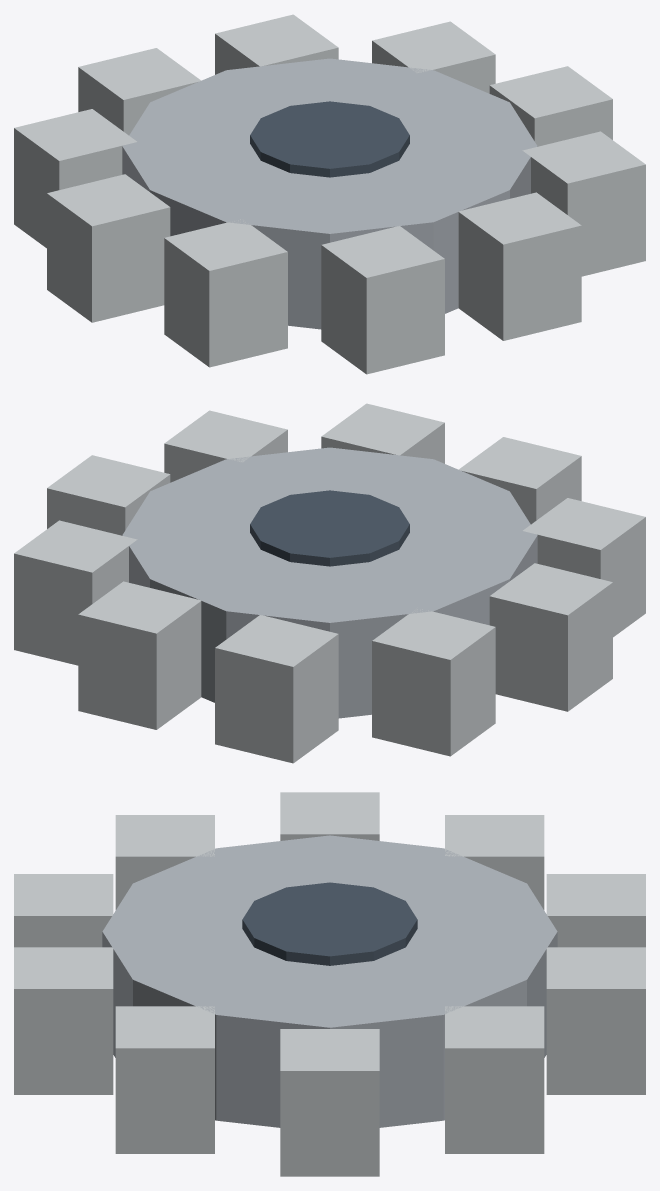
File: objeto_engranaje.glb
3 renders of one model, top to bottom at view 1: azimuth 30°, elevation 25°; view 2: azimuth 150°, elevation 25°; view 3: azimuth 270°, elevation 25°, orthographic. The views are drawn at different scales.
Parts seen in each view (by area): view 1: objeto_engranaje; view 2: objeto_engranaje; view 3: objeto_engranaje.
Boxes of the visible parts, bbox=[...] form: objeto_engranaje: bbox=[14, 14, 645, 374]; objeto_engranaje: bbox=[14, 403, 645, 763]; objeto_engranaje: bbox=[14, 792, 645, 1176].
Size of the model in its own units: 1.13 by 0.223 by 1.08.
